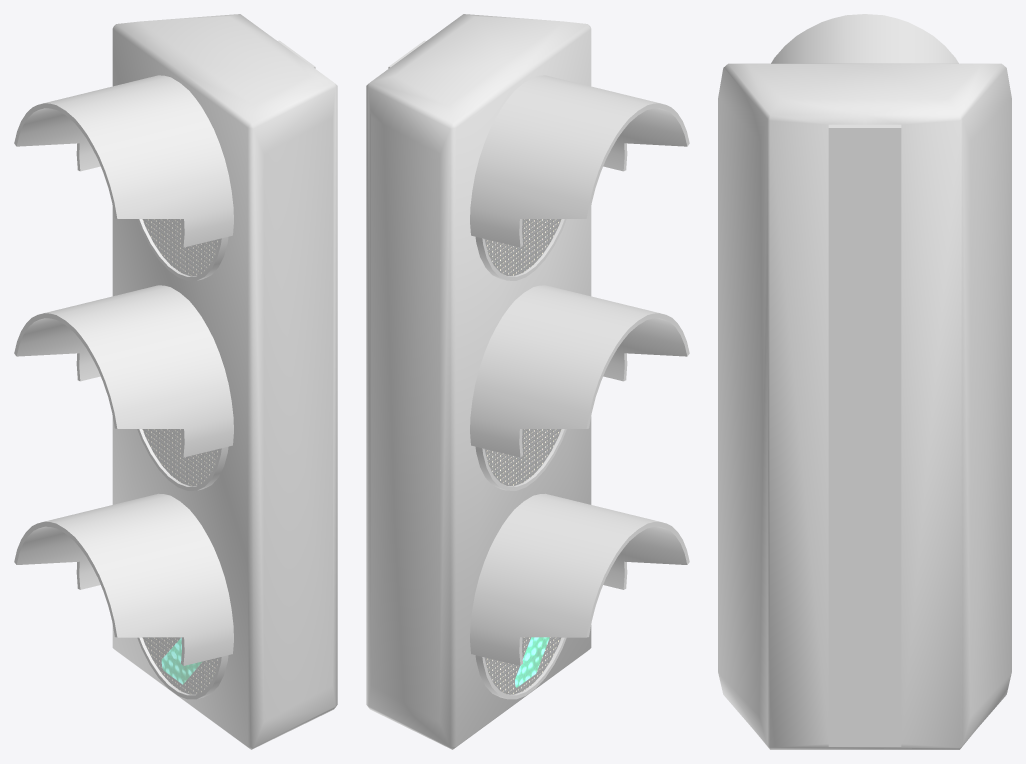
Rendered from 竖排右转灯_GreenLight.glb.
3 renders of one model, left to right at view 1: azimuth 30°, elevation 25°; view 2: azimuth 150°, elevation 25°; view 3: azimuth 270°, elevation 25°, orthographic.
Parts seen in each view (by area): view 1: 竖排右转灯_GreenLight; view 2: 竖排右转灯_GreenLight; view 3: 竖排右转灯_GreenLight.
Part boxes in pixels (x1,y1,x2,y2): 竖排右转灯_GreenLight: (14, 14, 337, 749); 竖排右转灯_GreenLight: (366, 14, 689, 749); 竖排右转灯_GreenLight: (718, 14, 1011, 749).
Size of the model in its own units: 0.6001 by 1.58 by 0.65.
Materials: 3 (2 with a texture image).
